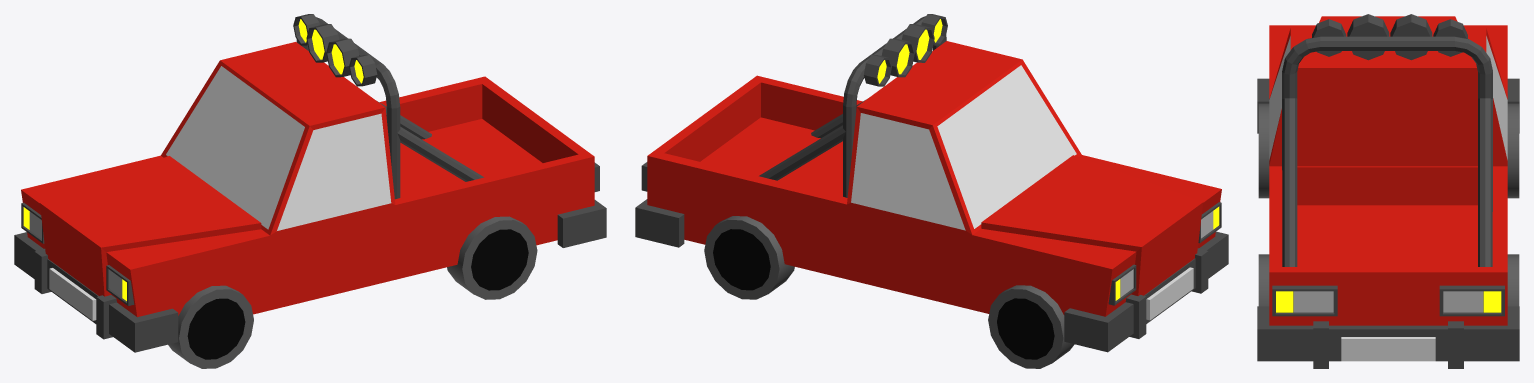
3 renders of one model, left to right at view 1: azimuth 30°, elevation 25°; view 2: azimuth 150°, elevation 25°; view 3: azimuth 270°, elevation 25°, orthographic. The views are drawn at different scales.
Parts seen in each view (by area): view 1: Cube.003, Cylinder.006, Torus.001; view 2: Cube.003, Cylinder.006, Torus.001; view 3: Cube.003, Torus.001, Cylinder.006.
Boxes of the visible parts, box(x1,y1,x2,y2) form: Cube.003: box(14, 42, 606, 352); Cylinder.006: box(168, 216, 537, 368); Torus.001: box(293, 14, 484, 199); Cube.003: box(635, 41, 1228, 352); Cylinder.006: box(704, 216, 1074, 368); Torus.001: box(759, 14, 947, 197); Cube.003: box(1257, 16, 1519, 368); Torus.001: box(1282, 14, 1492, 266); Cylinder.006: box(1258, 103, 1519, 306).
Size of the model in its own units: 300 by 146 by 129.
